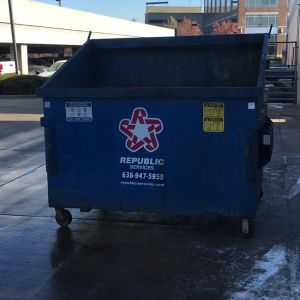Dumpster: (35, 30, 280, 241)
